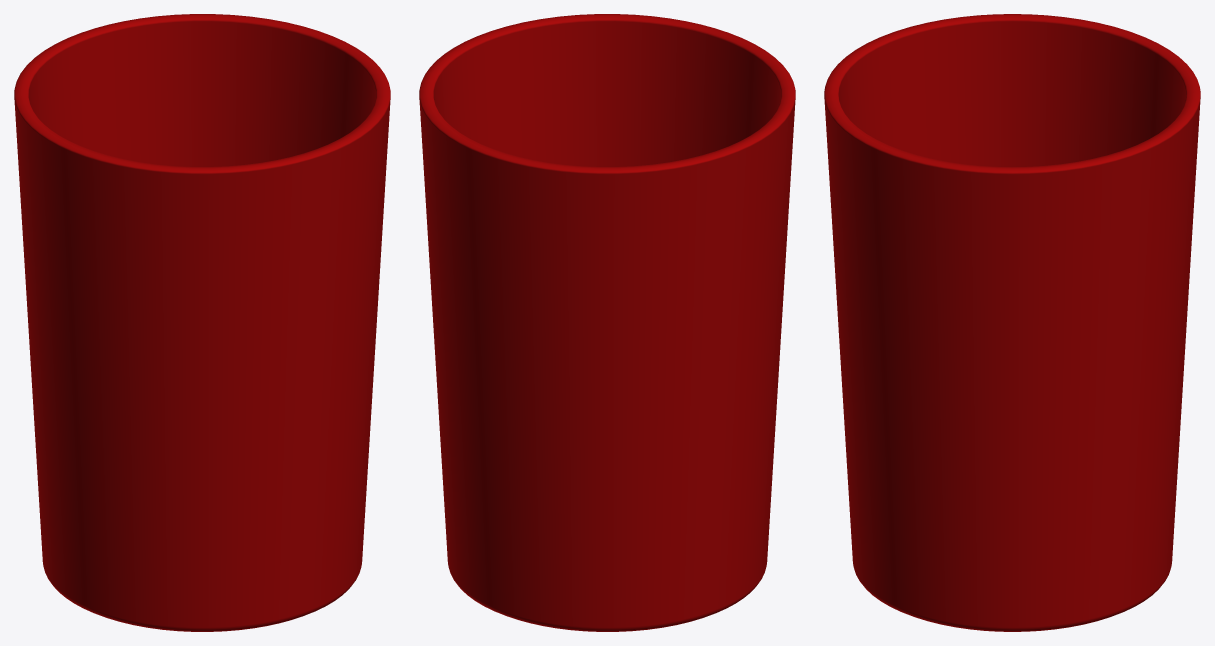
File: hepe50.glb
3 renders of one model, left to right at view 1: azimuth 30°, elevation 25°; view 2: azimuth 150°, elevation 25°; view 3: azimuth 270°, elevation 25°, orthographic.
Parts seen in each view (by area): view 1: TrimSrf (×2); view 2: TrimSrf (×2); view 3: TrimSrf (×2).
Boxes of the visible parts, box(x1,y1,x2,y2) form: TrimSrf (×2): box(14, 14, 390, 631); TrimSrf (×2): box(419, 14, 795, 631); TrimSrf (×2): box(824, 14, 1200, 631).
Bounding box in the file's own units: 0.065 × 0.0905 × 0.065.
